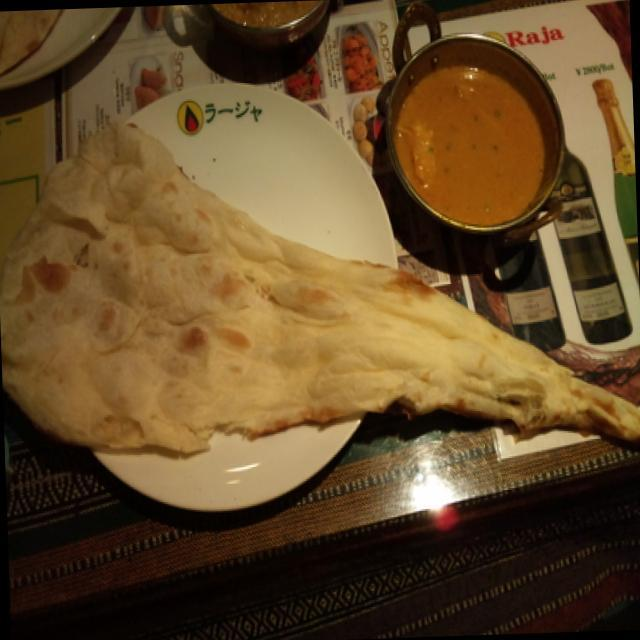Beef Curry: (416, 83, 528, 202)
